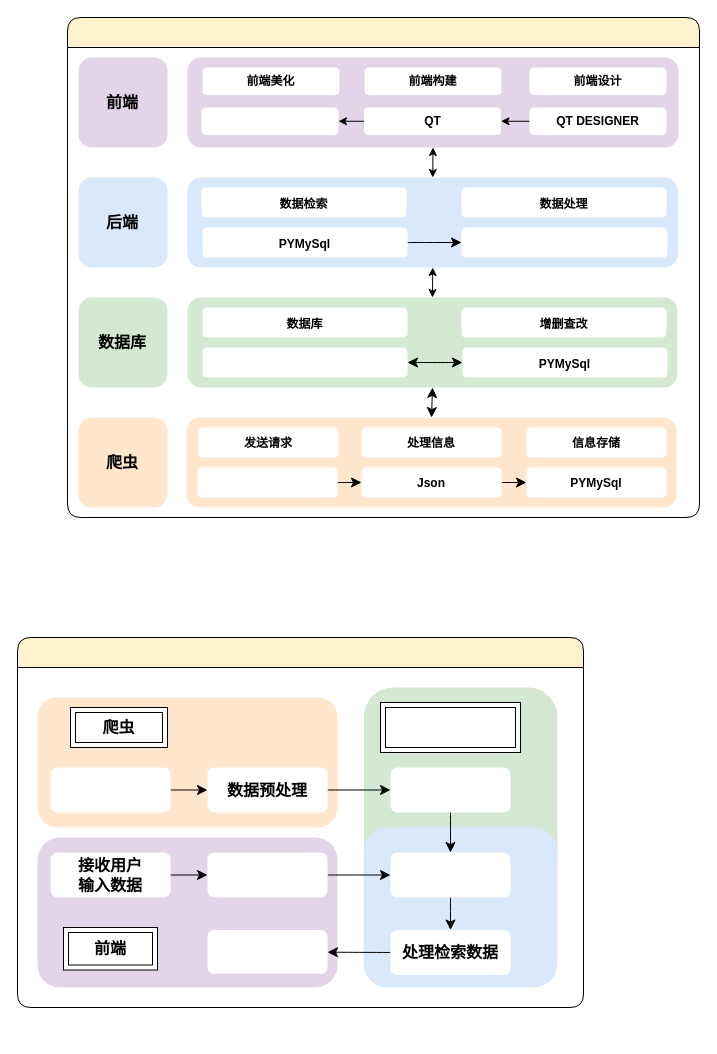
Image size: 717x1054. Some labels were removed from this diagram. Each missing label, with the box of its shape:
MySql: (202, 347, 407, 377)
QSS: (201, 107, 338, 134)
Requests: (197, 467, 337, 497)
Thefuzz: (461, 227, 667, 257)
后端 & 数据库: (380, 702, 520, 752)
处理输入数据: (207, 852, 327, 897)
展示输出数据: (207, 930, 327, 973)
数据库存储: (390, 767, 510, 812)
数据库检索: (390, 852, 510, 897)
数据流示意图: (16, 636, 584, 1008)
爬取数据: (50, 767, 170, 812)
系统架构图: (66, 16, 700, 518)
